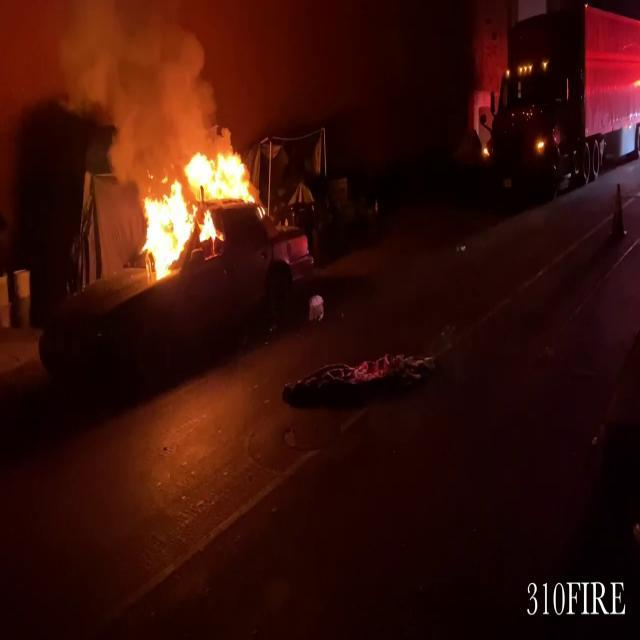Fire: (136, 140, 260, 283)
Smoke: (0, 0, 216, 146)
